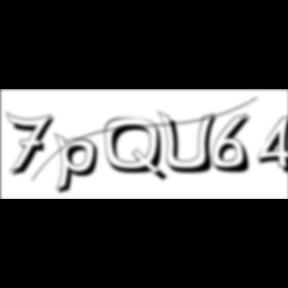6: (212, 112, 258, 176)
7: (6, 111, 60, 179)
Q: (104, 117, 170, 184)
U: (158, 110, 222, 176)
p: (55, 132, 105, 198)
